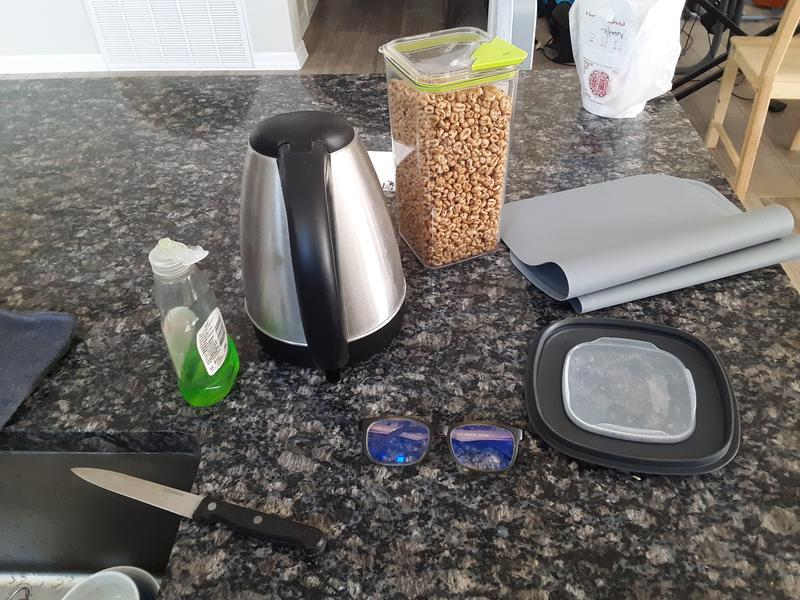glasses: (355, 414, 524, 477)
